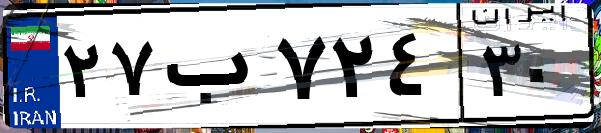0: (525, 38, 570, 115)
2: (330, 28, 385, 110), (57, 26, 110, 100)
3: (475, 38, 525, 113)
4: (385, 28, 445, 110)
7: (270, 28, 330, 110), (110, 28, 158, 98)
ب: (158, 20, 270, 120)
